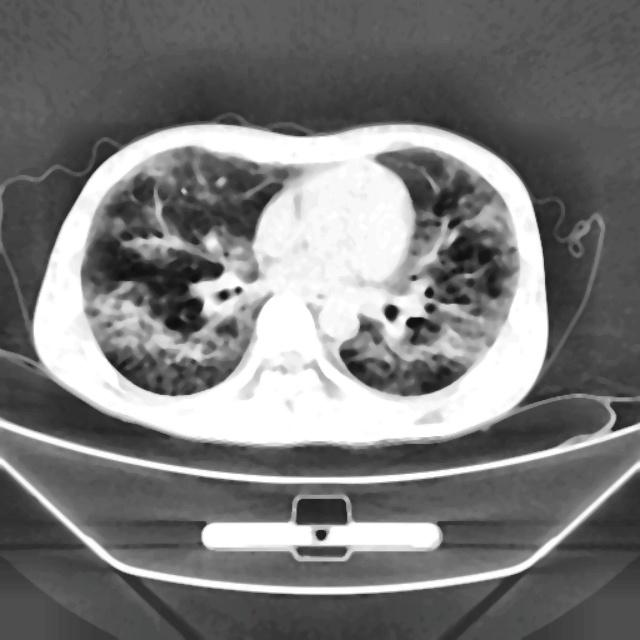covid: (33, 117, 549, 447)
